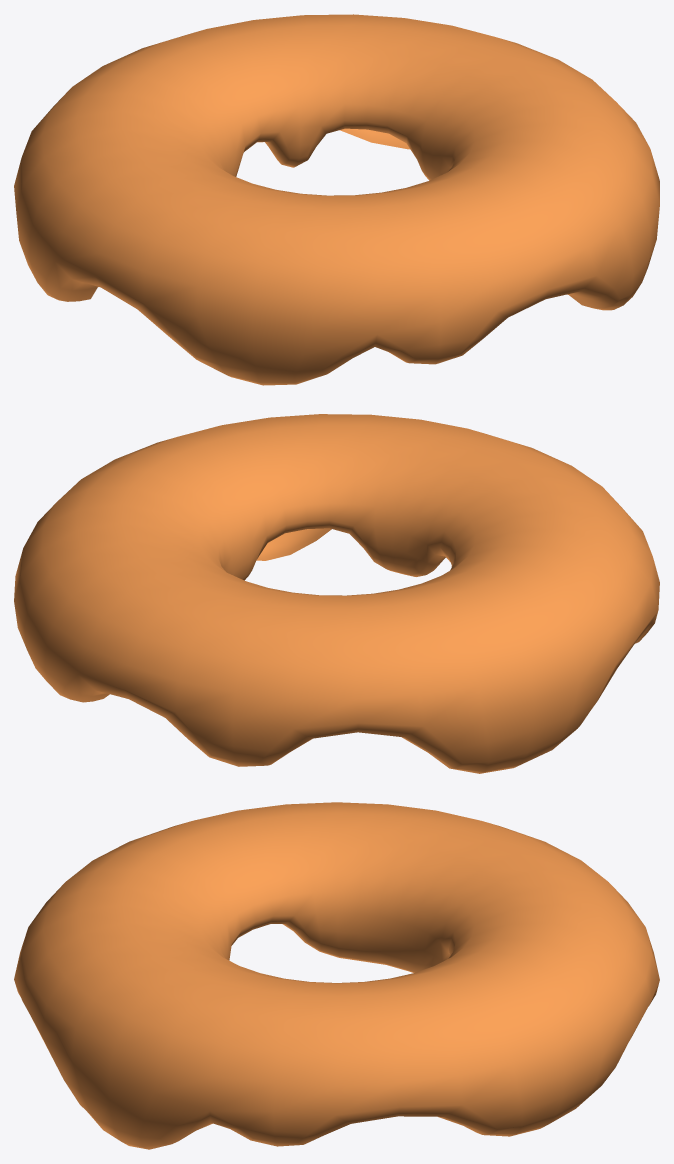
File: Donut_Icing_01.fbx
3 views of the same model, one above another, from view 1: azimuth 30°, elevation 25°; view 2: azimuth 150°, elevation 25°; view 3: azimuth 270°, elevation 25° (orthographic).
Parts seen in each view (by area): view 1: Donut_Icing_01_LOD0; view 2: Donut_Icing_01_LOD0; view 3: Donut_Icing_01_LOD0.
Boxes of the visible parts, x1,y1,x2,y2 form: Donut_Icing_01_LOD0: [14, 14, 659, 385]; Donut_Icing_01_LOD0: [14, 414, 659, 773]; Donut_Icing_01_LOD0: [14, 802, 659, 1149].
Size of what is drawn, in the model's own units: 575 by 153 by 576.
